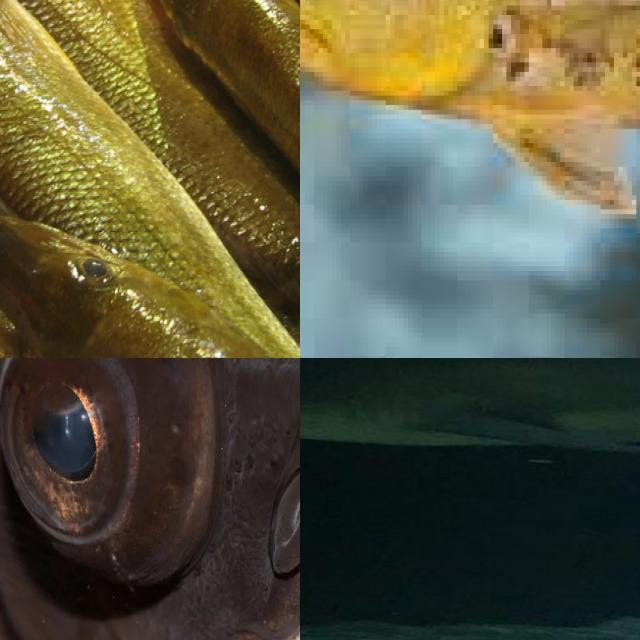fish: (0, 0, 300, 358), (300, 0, 640, 219), (67, 431, 300, 640), (300, 358, 640, 461)
